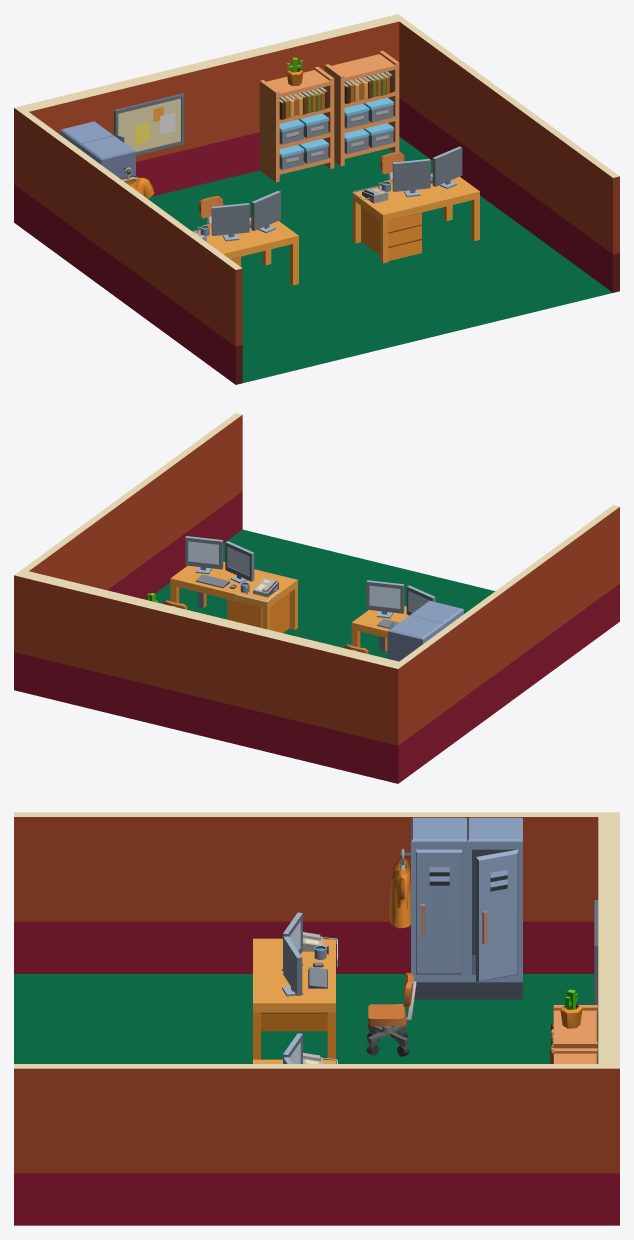
Rendered from Upgrade_Room_Winter.fbx.
3 views of the same model, one above another, from view 1: azimuth 30°, elevation 25°; view 2: azimuth 150°, elevation 25°; view 3: azimuth 270°, elevation 25° (orthographic). The views are drawn at different scales.
Visible parts, largest first — view 1: pPlane32, wall_half6, wall_half7, wall27, tree, pasted__office_table, pasted__office_table1, office_board, office_shelve01; view 2: wall27, wall_half6, wall_half7, pPlane32, pasted__office_table, pasted__office_table1, office_shelve01; view 3: wall_half7, wall_half6, pPlane32, office_shelve01, pasted__office_table1, wall27, tree, pasted__office_table.
Boxes of the visible parts, x1,y1,x2,y2 form: pPlane32: (148,136,612,382); wall_half6: (14,106,242,384); wall_half7: (392,14,619,292); wall27: (14,14,405,227); tree: (259,51,399,182); pasted__office_table: (352,146,479,263); pasted__office_table1: (192,190,298,285); office_board: (114,93,184,155); office_shelve01: (60,121,154,198); wall27: (14,570,405,782); wall_half6: (391,505,619,783); wall_half7: (14,413,242,687); pPlane32: (155,529,494,658); pasted__office_table: (163,536,297,632); pasted__office_table1: (344,580,435,653); office_shelve01: (387,601,463,661); wall_half7: (14,1064,619,1225); wall_half6: (14,812,619,973); pPlane32: (14,974,598,1063); office_shelve01: (389,817,522,999); pasted__office_table1: (253,912,416,1059); wall27: (598,812,619,1225); tree: (550,989,597,1063); pasted__office_table: (253,1033,337,1063).
Bounding box in the file's own units: 700 × 204 × 700.
